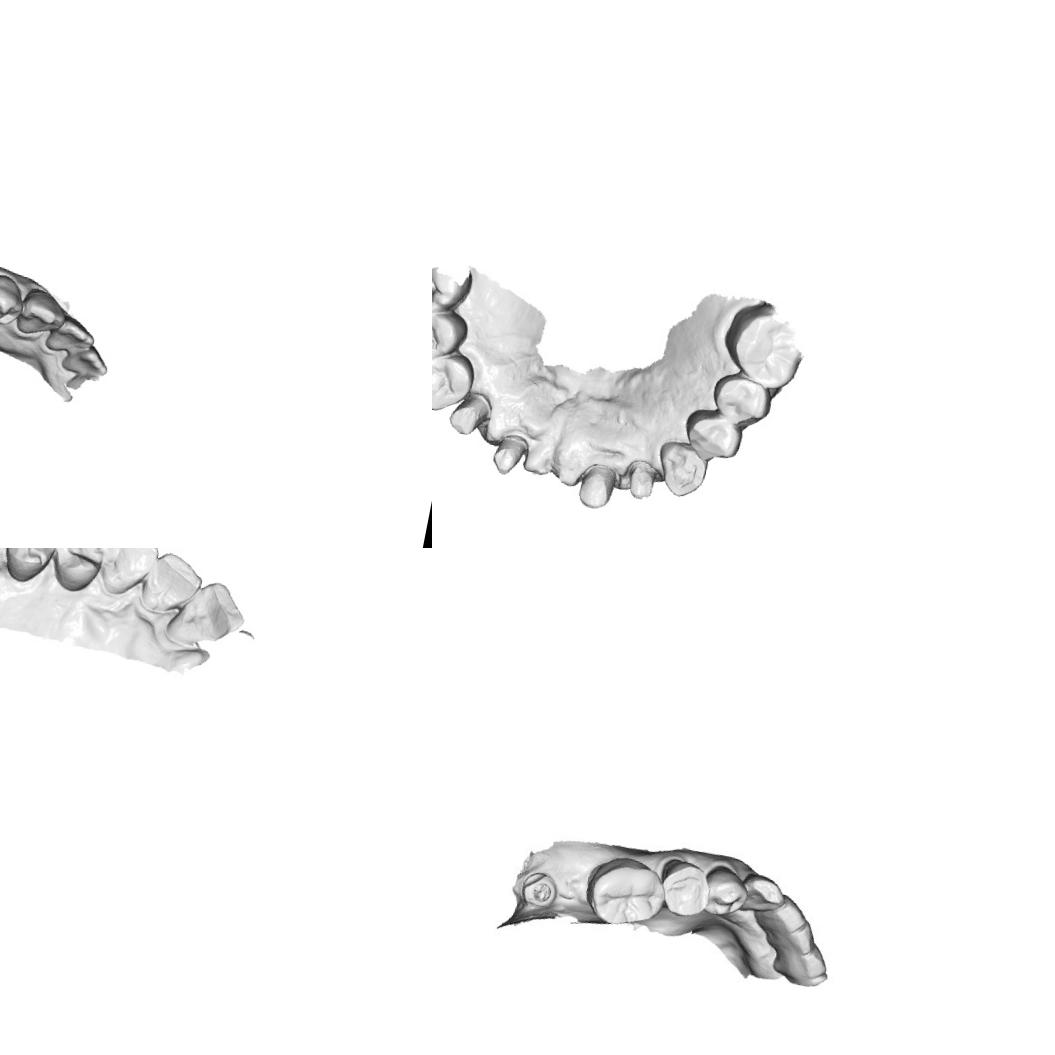canine: (89, 548, 160, 604), (651, 437, 712, 501), (13, 286, 70, 341), (740, 868, 788, 914)
crown: (445, 386, 495, 439), (573, 459, 619, 512), (488, 430, 531, 480), (620, 456, 660, 502)
implant: (516, 868, 561, 912)
incisor: (163, 571, 250, 655), (134, 548, 209, 622), (768, 938, 831, 989), (752, 888, 809, 939), (764, 915, 822, 964), (42, 310, 98, 359), (58, 340, 112, 380)
molar: (716, 294, 811, 394), (578, 847, 670, 936), (432, 255, 474, 326)
premolar: (652, 856, 716, 924), (678, 404, 746, 467), (707, 368, 776, 429), (696, 858, 752, 922), (432, 345, 478, 417), (45, 548, 108, 595), (432, 301, 472, 371), (0, 548, 64, 586), (0, 267, 28, 332)
